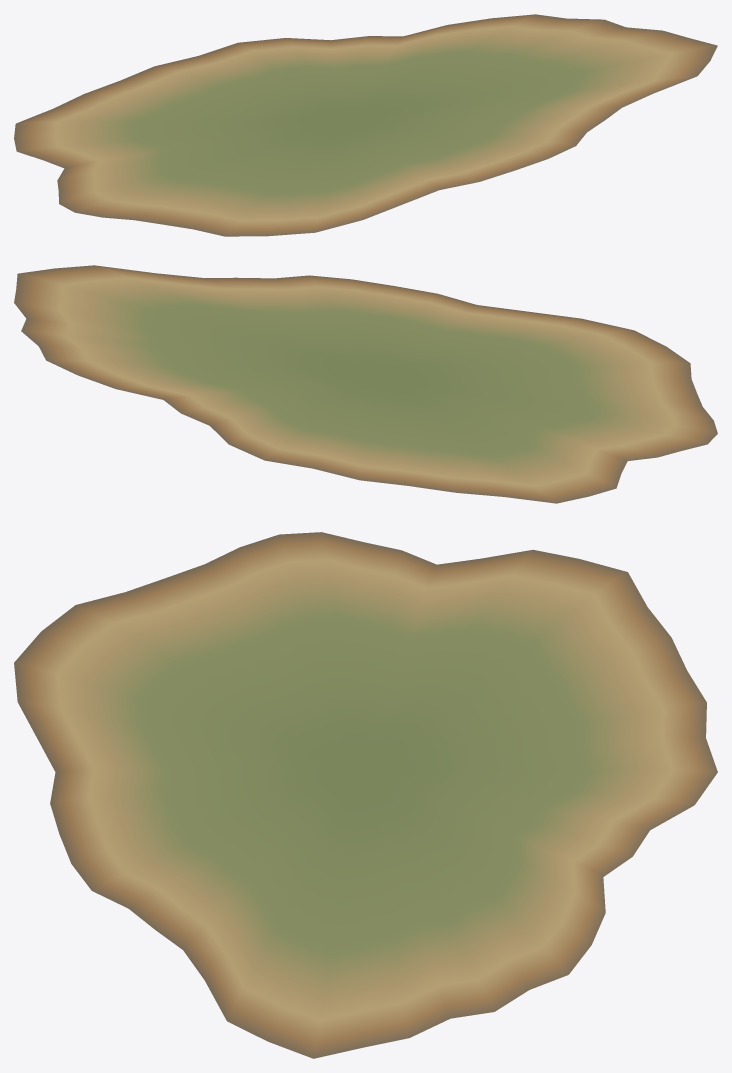
Rendered from tropical_shore.glb.
3 views of the same model, one above another, from view 1: azimuth 30°, elevation 25°; view 2: azimuth 150°, elevation 25°; view 3: azimuth 270°, elevation 25° (orthographic). The views are drawn at different scales.
Parts seen in each view (by area): view 1: TropicalShore; view 2: TropicalShore; view 3: TropicalShore.
Boxes of the visible parts, box(x1,y1,x2,y2) form: TropicalShore: box(14, 14, 717, 236); TropicalShore: box(14, 265, 717, 503); TropicalShore: box(14, 532, 717, 1058).
Size of the model in its own units: 168 by 0.321 by 95.17.
